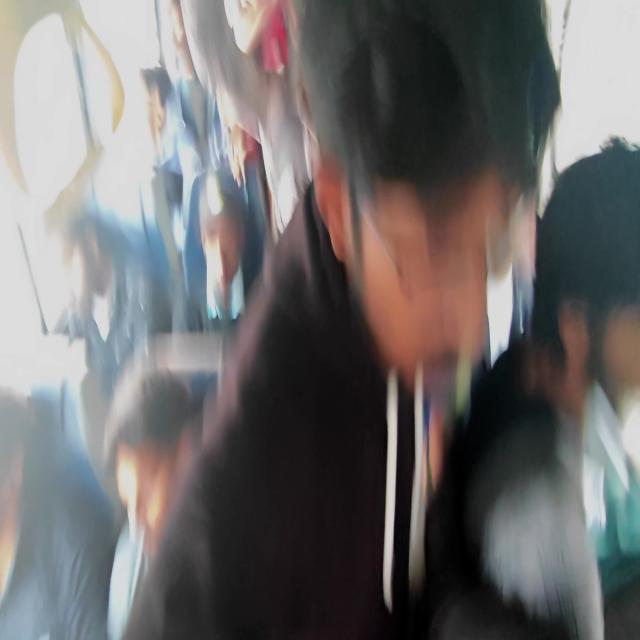person: (354, 156, 498, 396), (539, 139, 638, 428), (212, 2, 314, 245), (140, 39, 212, 330), (106, 359, 200, 556), (520, 5, 562, 203), (69, 216, 115, 308), (160, 0, 200, 87), (0, 390, 32, 476)
